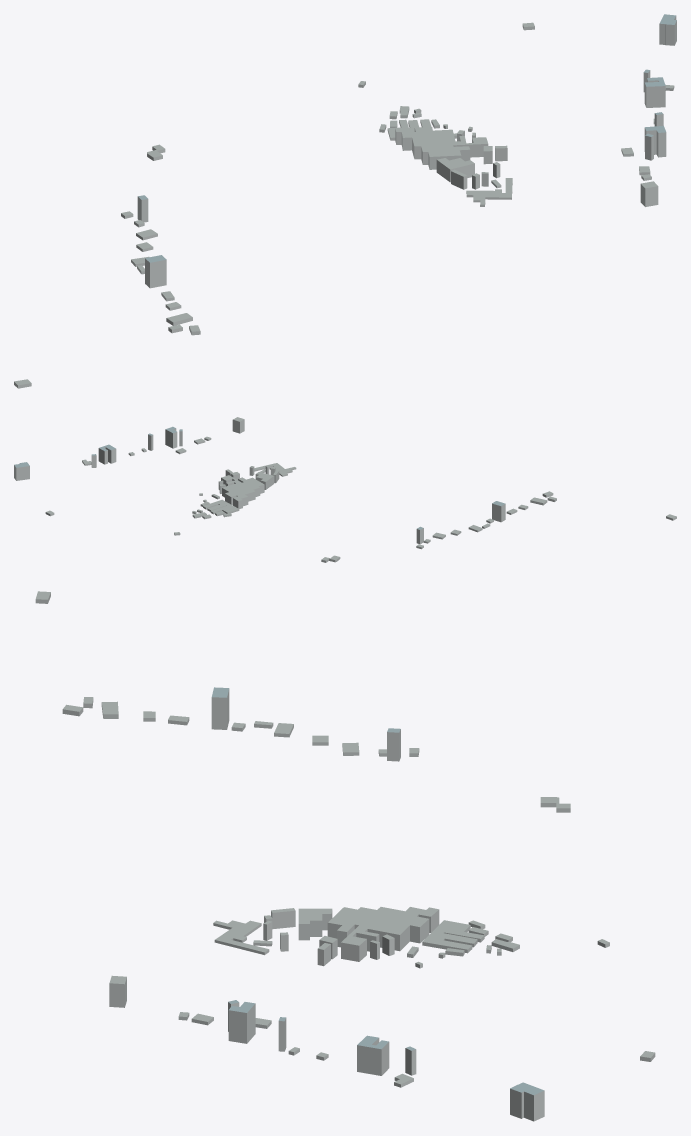
3 views of the same model, one above another, from view 1: azimuth 30°, elevation 25°; view 2: azimuth 150°, elevation 25°; view 3: azimuth 270°, elevation 25° (orthographic). The views are drawn at different scales.
Parts seen in each view (by area): view 1: 上海全域建筑分块 · mapped building neighborhood; view 2: 上海全域建筑分块 · mapped building neighborhood; view 3: 上海全域建筑分块 · mapped building neighborhood.
Part boxes in pixels (x1=…): 上海全域建筑分块 · mapped building neighborhood: x1=14, y1=14, x2=676, y2=388; 上海全域建筑分块 · mapped building neighborhood: x1=14, y1=417, x2=676, y2=562; 上海全域建筑分块 · mapped building neighborhood: x1=35, y1=591, x2=655, y2=1121.
Size of the model in its own units: 830 by 23.7 by 413.
